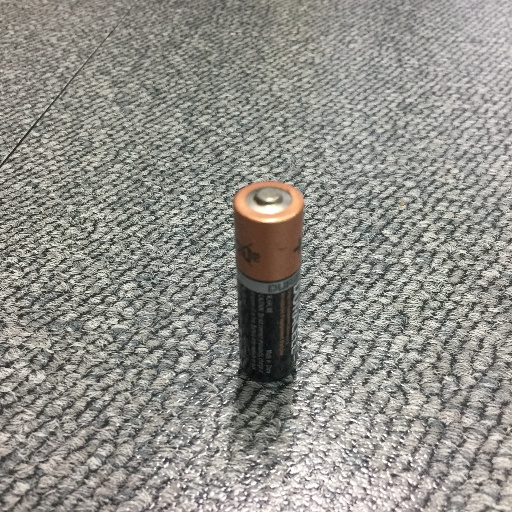Battery_0: (211, 160, 314, 398)
